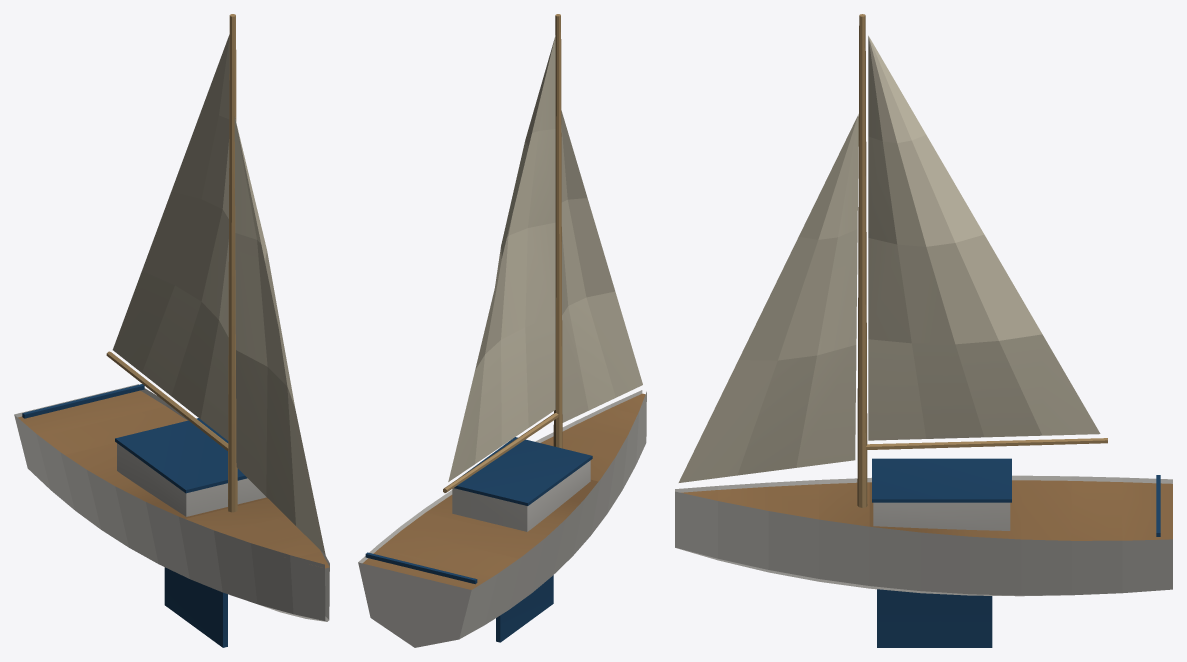
The model's file is Sailboat.fbx.
3 views of the same model, side by side, from view 1: azimuth 30°, elevation 25°; view 2: azimuth 150°, elevation 25°; view 3: azimuth 270°, elevation 25° (orthographic). The views are drawn at different scales.
Visible parts, largest first — view 1: Sailboat; view 2: Sailboat; view 3: Sailboat.
Boxes of the visible parts, <box> form: Sailboat: <box>14,14,329,647</box>; Sailboat: <box>358,14,646,647</box>; Sailboat: <box>675,14,1172,647</box>.
Bounding box in the file's own units: 2.12 × 9.65 × 6.89.
